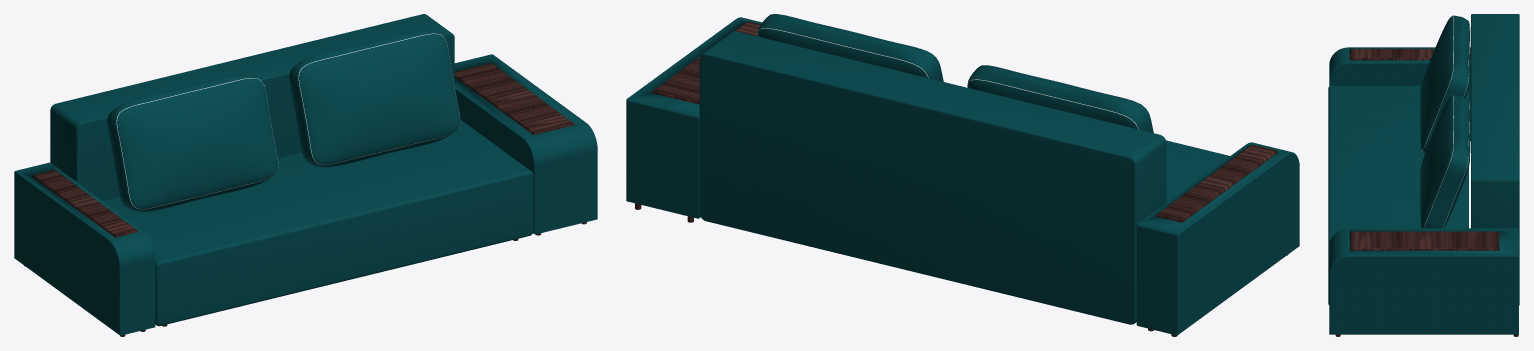
Rendered from sofa-003.glb.
The picture shows the model from 3 angles, left to right: view 1: azimuth 30°, elevation 25°; view 2: azimuth 150°, elevation 25°; view 3: azimuth 270°, elevation 25°; orthographic projection. The views are drawn at different scales.
Parts seen in each view (by area): view 1: Couch, Pillow_2.001, Pillow_2; view 2: Couch, Pillow_2.001, Pillow_2; view 3: Couch, Pillow_2.001, Pillow_2.
Boxes of the visible parts, box(x1,y1,x2,y2) form: Couch: box(14, 14, 597, 336); Pillow_2.001: box(289, 30, 460, 167); Pillow_2: box(107, 74, 278, 211); Couch: box(626, 17, 1299, 336); Pillow_2.001: box(757, 14, 943, 81); Pillow_2: box(967, 65, 1153, 133); Couch: box(1328, 14, 1519, 336); Pillow_2.001: box(1420, 95, 1470, 228); Pillow_2: box(1420, 15, 1470, 153).
Size of the model in its own units: 2.02 by 0.672 by 0.7819.
3 materials, 2 textured.
